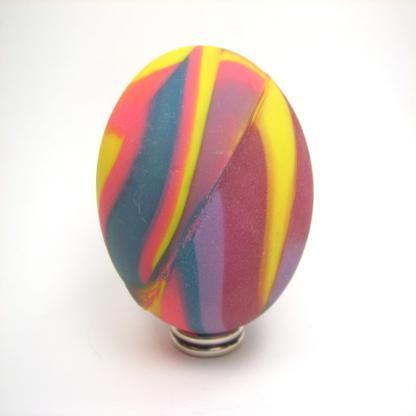Ball: (95, 43, 315, 334)
